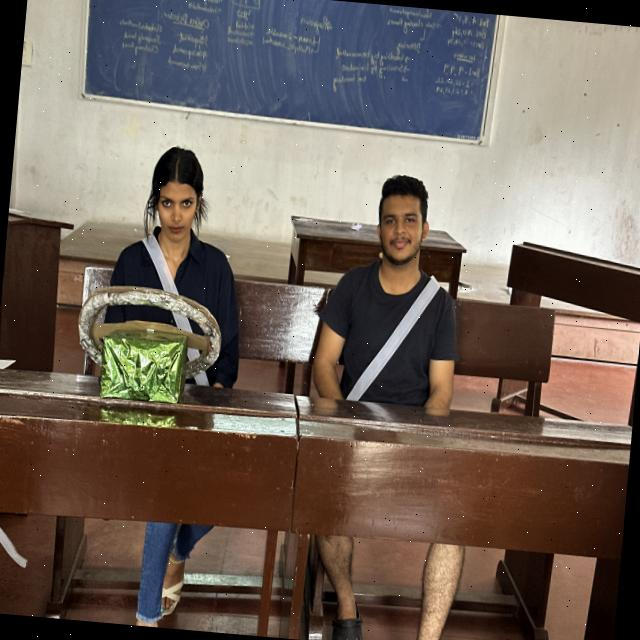seatbelt: (51, 225, 258, 386), (284, 261, 476, 407)
